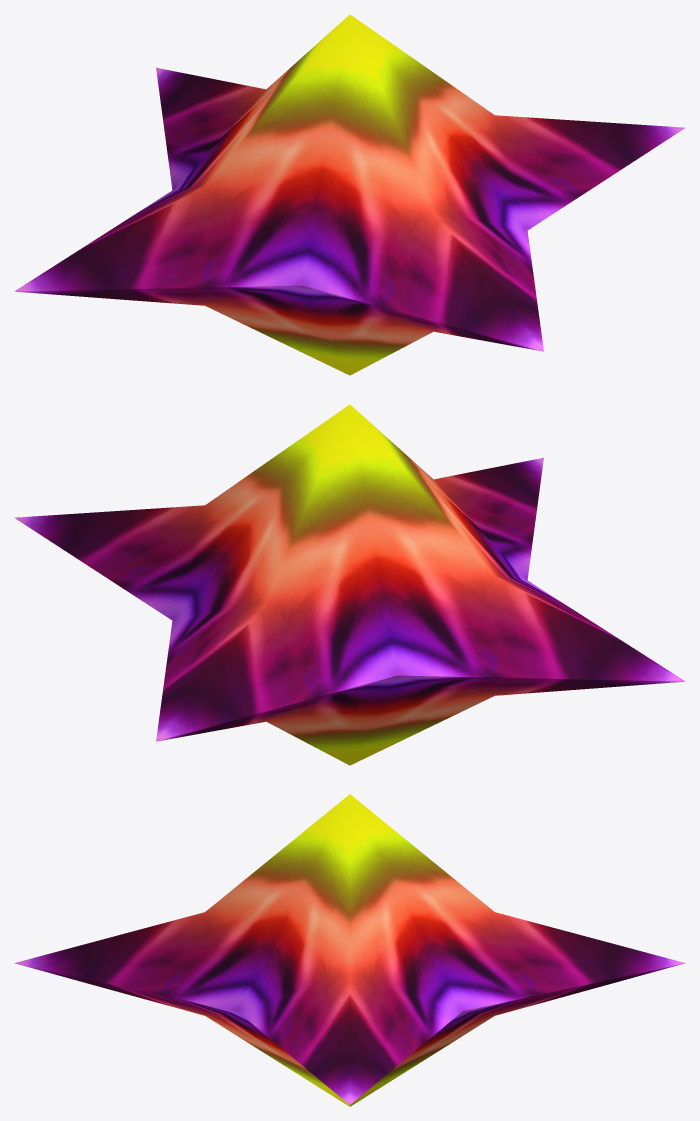
File: misc-01.fbx
The picture shows the model from 3 angles, top to bottom: view 1: azimuth 30°, elevation 25°; view 2: azimuth 150°, elevation 25°; view 3: azimuth 270°, elevation 25°; orthographic projection. The views are drawn at different scales.
Visible parts, largest first — view 1: misc-01; view 2: misc-01; view 3: misc-01.
Boxes of the visible parts, x1,y1,x2,y2 form: misc-01: [14, 14, 685, 375]; misc-01: [14, 404, 685, 765]; misc-01: [14, 794, 685, 1106].
Size of the model in its own units: 51.76 by 26.6 by 51.76.
